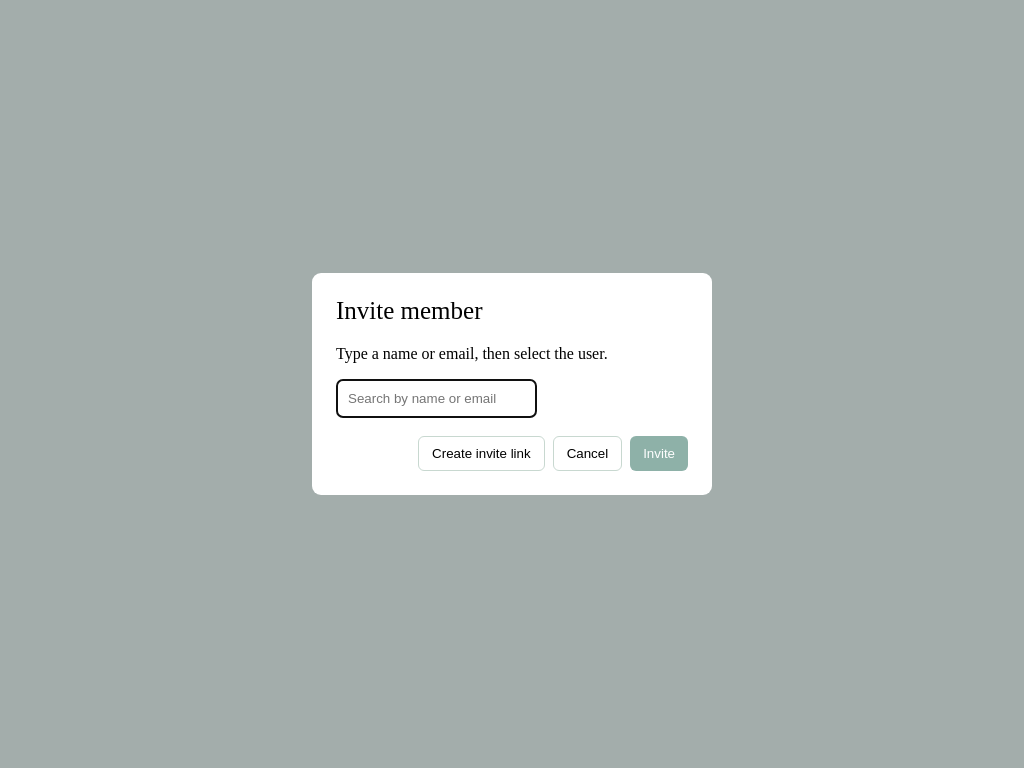
Test: InviteMemberModal invite link › builds the link from the app origin, not the API base url
Step 1. Click the button "Create invite link" → (481, 454), box [418,436,545,471]
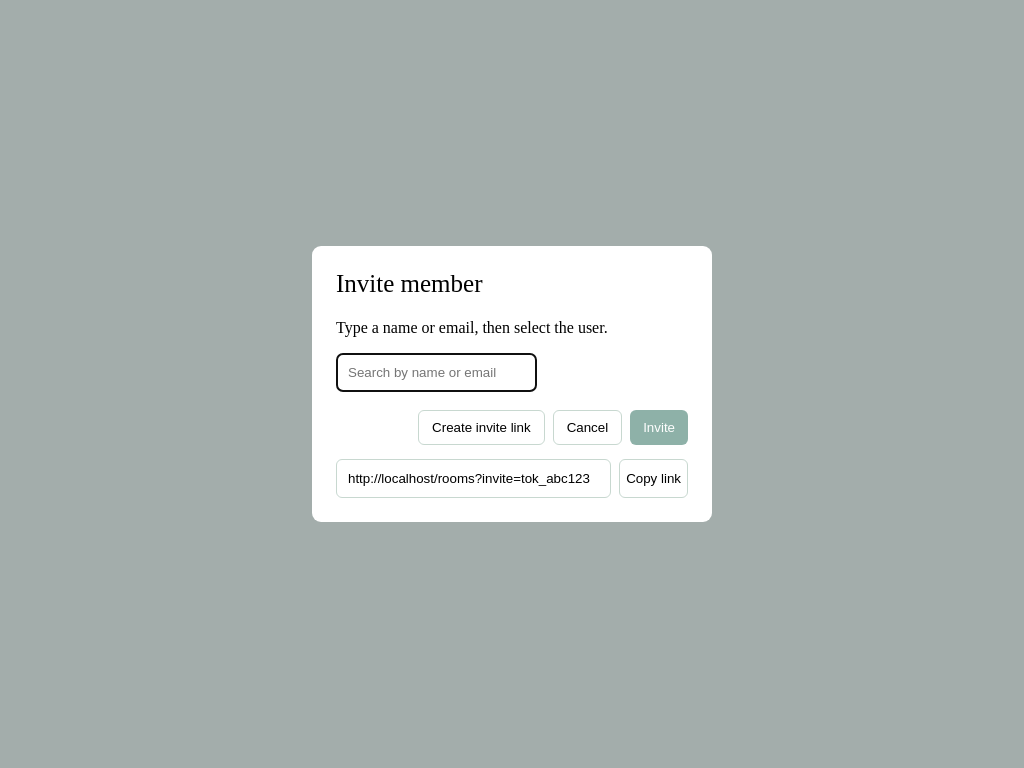
Result: the field named "room invite link" is shown at [336,459,611,498]
